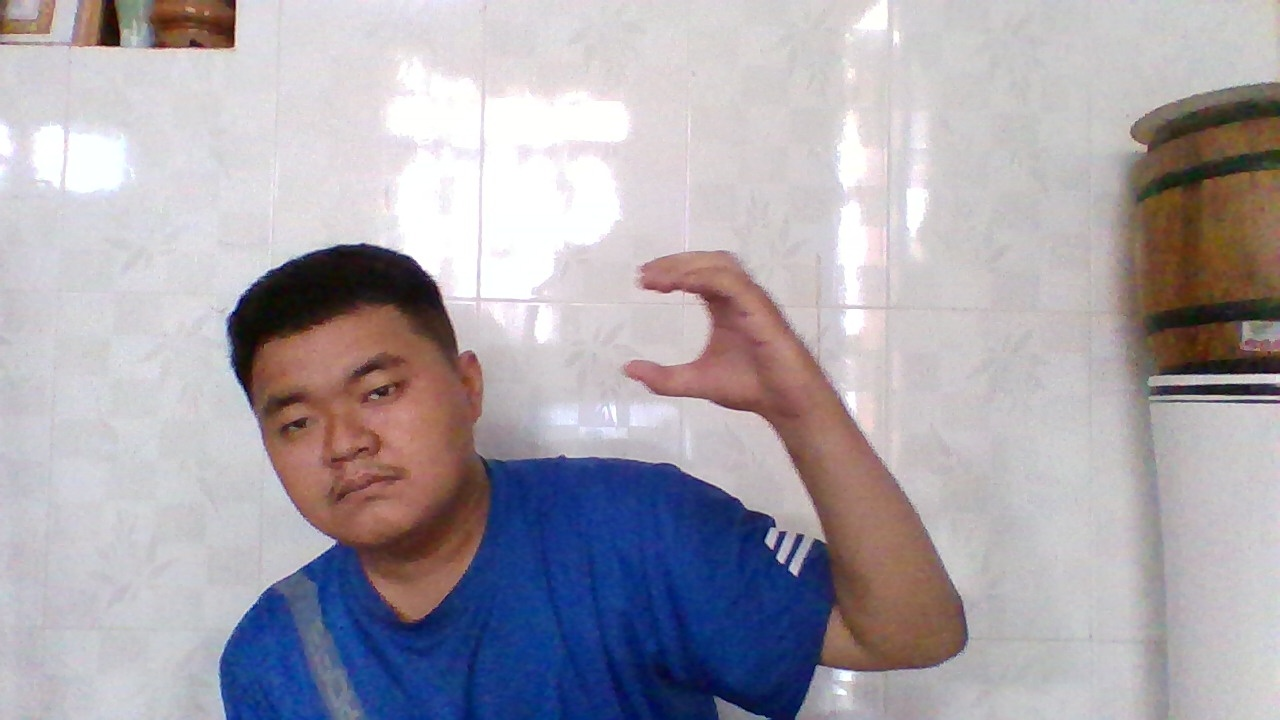C: (621, 243, 804, 427)
